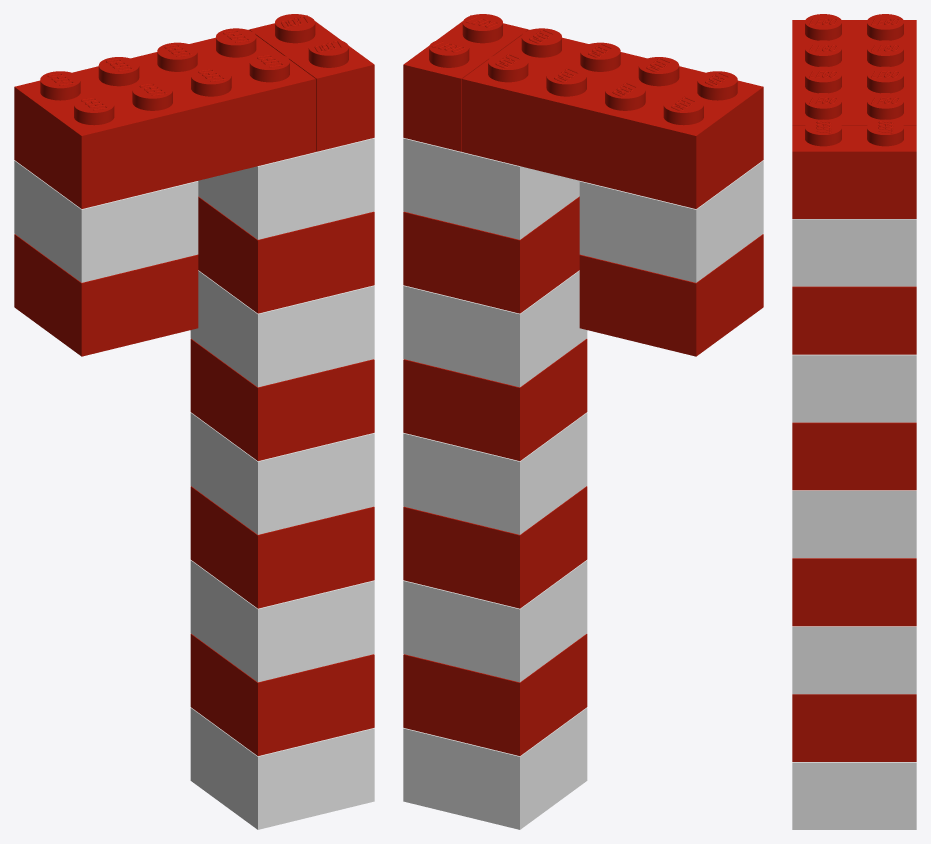
Rendered from palo.dae.
The picture shows the model from 3 angles, left to right: view 1: azimuth 30°, elevation 25°; view 2: azimuth 150°, elevation 25°; view 3: azimuth 270°, elevation 25°; orthographic projection. The views are drawn at different scales.
Parts seen in each view (by area): view 1: Inner-Node-palo_dot_io-9, Inner-Node-palo_dot_io-0, Inner-Node-palo_dot_io-2, Inner-Node-palo_dot_io-1, Inner-Node-palo_dot_io-4, Inner-Node-palo_dot_io-5, Inner-Node-palo_dot_io-3, Inner-Node-palo_dot_io-11, Inner-Node-palo_dot_io-10, Inner-Node-palo_dot_io-7, Inner-Node-palo_dot_io-6, Inner-Node-palo_dot_io-8 (+1 smaller); view 2: Inner-Node-palo_dot_io-9, Inner-Node-palo_dot_io-0, Inner-Node-palo_dot_io-2, Inner-Node-palo_dot_io-1, Inner-Node-palo_dot_io-4, Inner-Node-palo_dot_io-5, Inner-Node-palo_dot_io-3, Inner-Node-palo_dot_io-11, Inner-Node-palo_dot_io-10, Inner-Node-palo_dot_io-7, Inner-Node-palo_dot_io-6, Inner-Node-palo_dot_io-8 (+1 smaller); view 3: Inner-Node-palo_dot_io-9, Inner-Node-palo_dot_io-12, Inner-Node-palo_dot_io-1, Inner-Node-palo_dot_io-3, Inner-Node-palo_dot_io-4, Inner-Node-palo_dot_io-5, Inner-Node-palo_dot_io-6, Inner-Node-palo_dot_io-7, Inner-Node-palo_dot_io-0, Inner-Node-palo_dot_io-2, Inner-Node-palo_dot_io-8.
Part boxes in pixels (<box>): Inner-Node-palo_dot_io-9: <box>14,28,315,208</box>; Inner-Node-palo_dot_io-0: <box>190,707,374,829</box>; Inner-Node-palo_dot_io-2: <box>190,634,374,755</box>; Inner-Node-palo_dot_io-1: <box>190,486,374,608</box>; Inner-Node-palo_dot_io-4: <box>190,412,374,534</box>; Inner-Node-palo_dot_io-5: <box>190,560,374,682</box>; Inner-Node-palo_dot_io-3: <box>190,339,374,460</box>; Inner-Node-palo_dot_io-11: <box>14,160,198,282</box>; Inner-Node-palo_dot_io-10: <box>14,234,198,356</box>; Inner-Node-palo_dot_io-7: <box>190,270,374,387</box>; Inner-Node-palo_dot_io-6: <box>198,196,374,313</box>; Inner-Node-palo_dot_io-8: <box>198,138,374,239</box>; Inner-Node-palo_dot_io-9: <box>462,28,763,208</box>; Inner-Node-palo_dot_io-0: <box>403,707,587,829</box>; Inner-Node-palo_dot_io-2: <box>403,634,587,755</box>; Inner-Node-palo_dot_io-1: <box>403,486,587,608</box>; Inner-Node-palo_dot_io-4: <box>403,412,587,534</box>; Inner-Node-palo_dot_io-5: <box>403,560,587,682</box>; Inner-Node-palo_dot_io-3: <box>403,339,587,460</box>; Inner-Node-palo_dot_io-11: <box>579,160,763,282</box>; Inner-Node-palo_dot_io-10: <box>579,234,763,356</box>; Inner-Node-palo_dot_io-7: <box>403,270,587,387</box>; Inner-Node-palo_dot_io-6: <box>403,196,579,313</box>; Inner-Node-palo_dot_io-8: <box>403,138,579,239</box>; Inner-Node-palo_dot_io-9: <box>792,14,916,125</box>; Inner-Node-palo_dot_io-12: <box>792,119,916,218</box>; Inner-Node-palo_dot_io-1: <box>792,558,916,626</box>; Inner-Node-palo_dot_io-3: <box>792,422,916,490</box>; Inner-Node-palo_dot_io-4: <box>792,490,916,558</box>; Inner-Node-palo_dot_io-5: <box>792,626,916,694</box>; Inner-Node-palo_dot_io-6: <box>792,286,916,354</box>; Inner-Node-palo_dot_io-7: <box>792,354,916,422</box>; Inner-Node-palo_dot_io-0: <box>792,762,916,829</box>; Inner-Node-palo_dot_io-2: <box>792,694,916,761</box>; Inner-Node-palo_dot_io-8: <box>792,219,916,286</box>.
Bounding box in the file's own units: 99.75 × 244 × 39.75.
